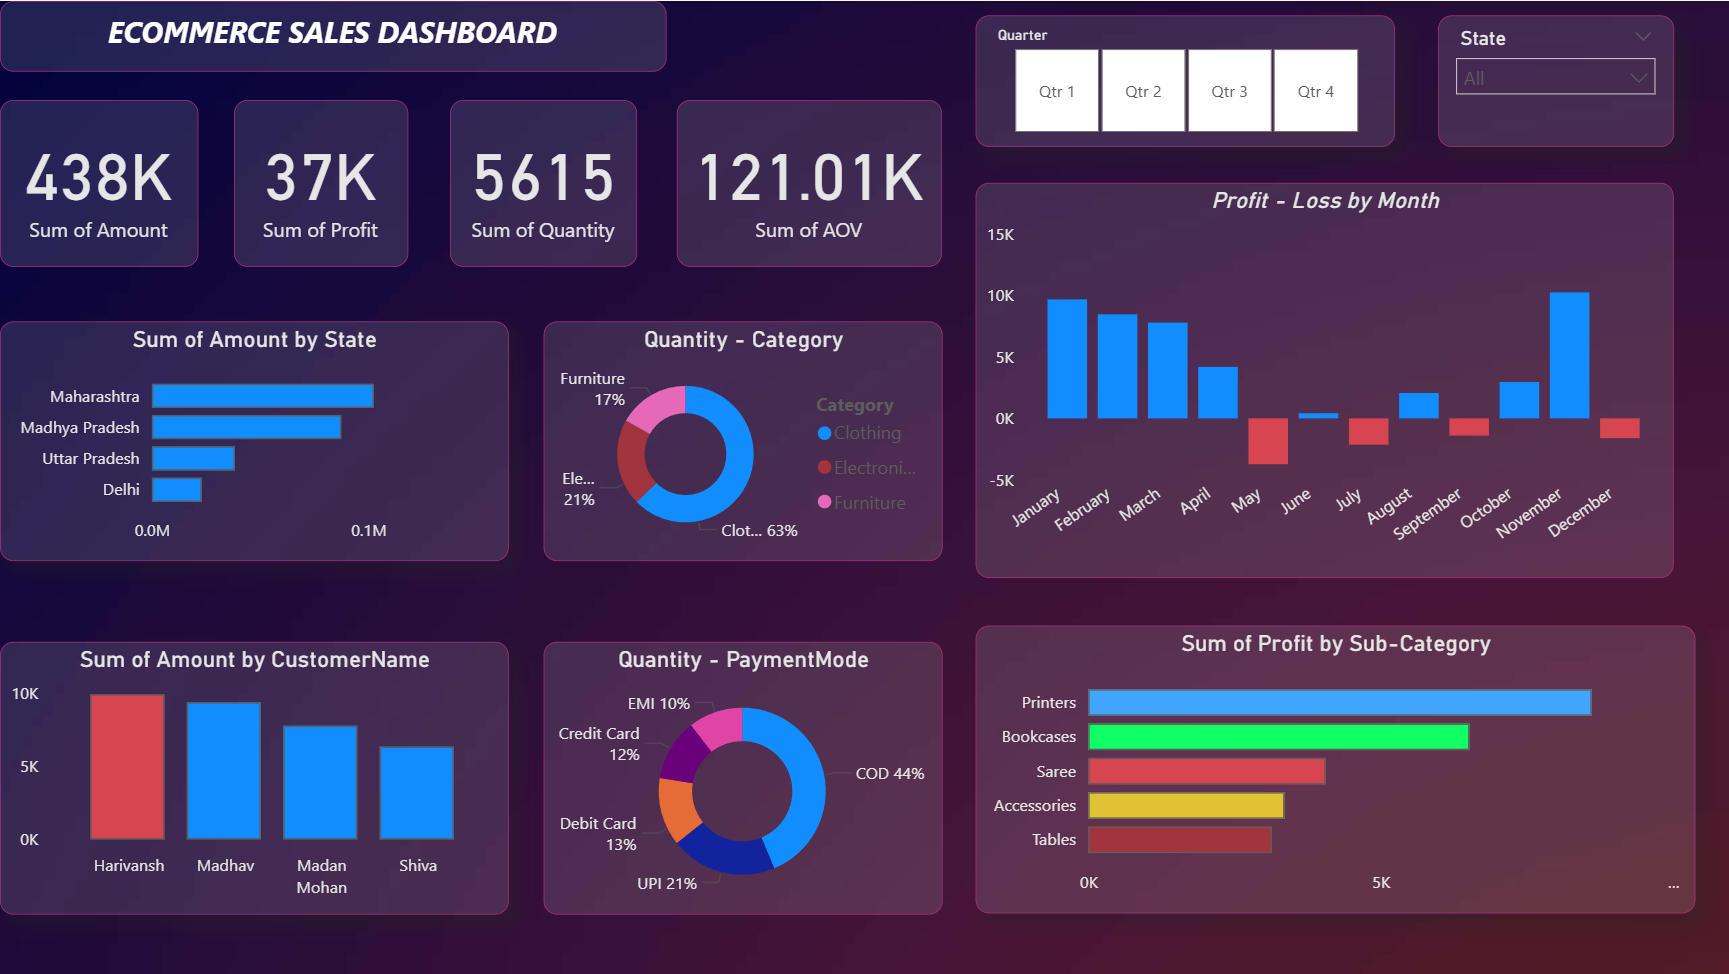

Layout of this report page (visuals, bound fields, positions):
{"tool":"powerbi","page":{"name":"Page 1","canvas":[1280,720],"ordinal":0},"visuals":[{"type":"textbox","box":[0,0,492.6,52.1],"z":0},{"type":"columnChart","title":"Profit - Loss by Month","fields":{"Category":["Orders.Order Date.Variation.Date Hierarchy.Month"],"Y":["Details.Profit"]},"box":[721.8,134.5,516,292.3],"z":1000},{"type":"barChart","fields":{"Category":["Details.Sub-Category"],"Y":["Details.Profit"]},"box":[721.8,462.4,532.4,212.7],"z":2000},{"type":"donutChart","title":"Quantity - Category","fields":{"Category":["Details.Category"],"Y":["Details.Quantity"]},"box":[402.1,237.4,295,177],"z":3000},{"type":"donutChart","title":"Quantity - PaymentMode","fields":{"Y":["Details.Quantity"],"Category":["Details.PaymentMode"]},"box":[402.1,473.4,295,201.7],"z":4000},{"type":"card","fields":{"Values":["Details.Amount"]},"box":[0,72.7,146.8,123.5],"z":5000},{"type":"card","fields":{"Values":["Details.Profit"]},"box":[172.9,72.7,129,123.5],"z":6000},{"type":"card","fields":{"Values":["Details.Quantity"]},"box":[332.1,72.7,138.6,123.5],"z":7000},{"type":"card","fields":{"Values":["Details.AOV"]},"box":[500.9,72.7,196.2,123.5],"z":8000},{"type":"barChart","fields":{"Category":["Orders.State"],"Y":["Details.Amount"]},"box":[0,237.4,376,177],"z":9000},{"type":"columnChart","fields":{"Category":["Orders.CustomerName"],"Y":["Details.Amount"]},"box":[0,473.4,376,201.7],"z":10000},{"type":"slicer","fields":{"Values":["Orders.Order Date.Variation.Date Hierarchy.Quarter"]},"box":[721.8,11,310.1,97.4],"z":11000},{"type":"slicer","fields":{"Values":["Orders.State"]},"box":[1063.5,11,174.3,97.4],"z":12000}]}

Visuals, with their boxes in screenshot pixels (x1, y1, x2, y2), scaled from the page's 1280x720 canvas onto the 1729x974 screenshot:
textbox: bbox=[0, 0, 665, 70]
"Profit - Loss by Month" columnChart: bbox=[975, 182, 1672, 577]
barChart - Details.Sub-Category x Details.Profit: bbox=[975, 626, 1694, 913]
"Quantity - Category" donutChart: bbox=[543, 321, 942, 561]
"Quantity - PaymentMode" donutChart: bbox=[543, 640, 942, 913]
card - Details.Amount: bbox=[0, 98, 198, 265]
card - Details.Profit: bbox=[234, 98, 408, 265]
card - Details.Quantity: bbox=[449, 98, 636, 265]
card - Details.AOV: bbox=[677, 98, 942, 265]
barChart - Orders.State x Details.Amount: bbox=[0, 321, 508, 561]
columnChart - Orders.CustomerName x Details.Amount: bbox=[0, 640, 508, 913]
slicer - Orders.Order Date.Variation.Date Hierarchy.Quarter: bbox=[975, 15, 1394, 147]
slicer - Orders.State: bbox=[1437, 15, 1672, 147]
